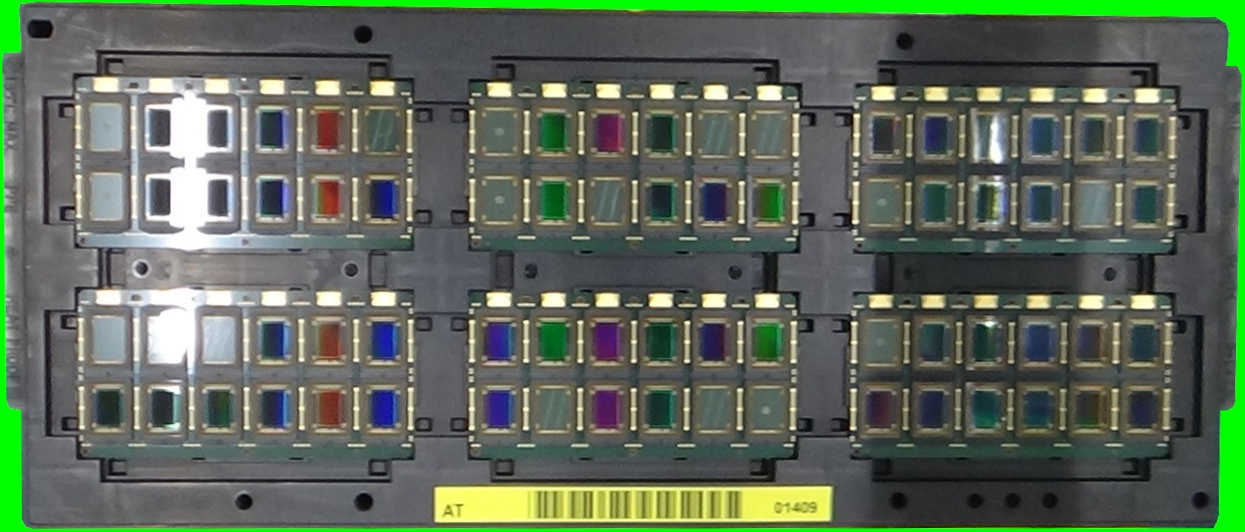Bad_mark_from_BMS_mold: (582, 172, 633, 230), (528, 379, 577, 438), (357, 100, 406, 159), (691, 379, 737, 438), (691, 105, 739, 160), (748, 105, 793, 159)
Bad_mark_from_Maker: (474, 98, 527, 161), (859, 175, 907, 232), (475, 172, 521, 228), (744, 381, 790, 436), (858, 313, 903, 369)
